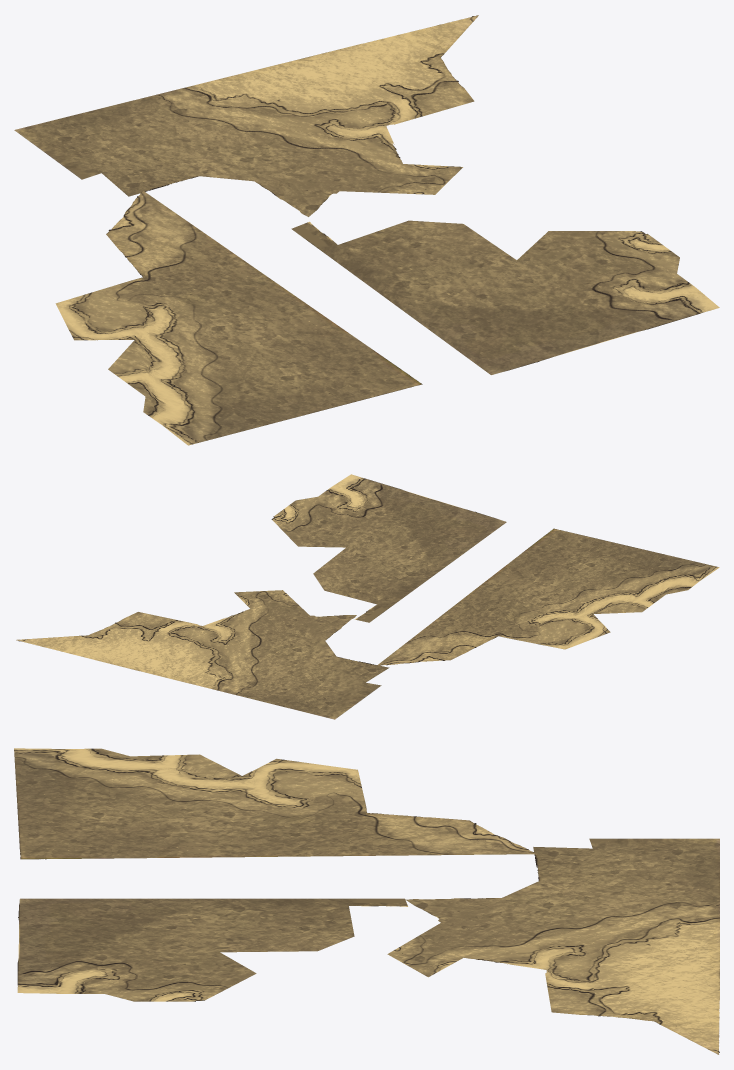
File: cave_map3.fbx
3 renders of one model, top to bottom at view 1: azimuth 30°, elevation 25°; view 2: azimuth 150°, elevation 25°; view 3: azimuth 270°, elevation 25°, orthographic. The views are drawn at different scales.
Visible parts, largest first — view 1: Cube.001, Cube.002, Cube.003; view 2: Cube.001, Cube.002, Cube.003; view 3: Cube.001, Cube.002, Cube.003.
Part boxes in pixels (x1,y1,x2,y2): Cube.001: (14, 15, 478, 216); Cube.002: (55, 190, 422, 445); Cube.003: (291, 220, 719, 375); Cube.001: (16, 590, 389, 719); Cube.002: (377, 528, 719, 665); Cube.003: (271, 474, 506, 622); Cube.001: (387, 838, 719, 1054); Cube.002: (14, 748, 537, 859); Cube.003: (17, 898, 407, 1001).
Size of the model in its own units: 283 by 5.75 by 273.
